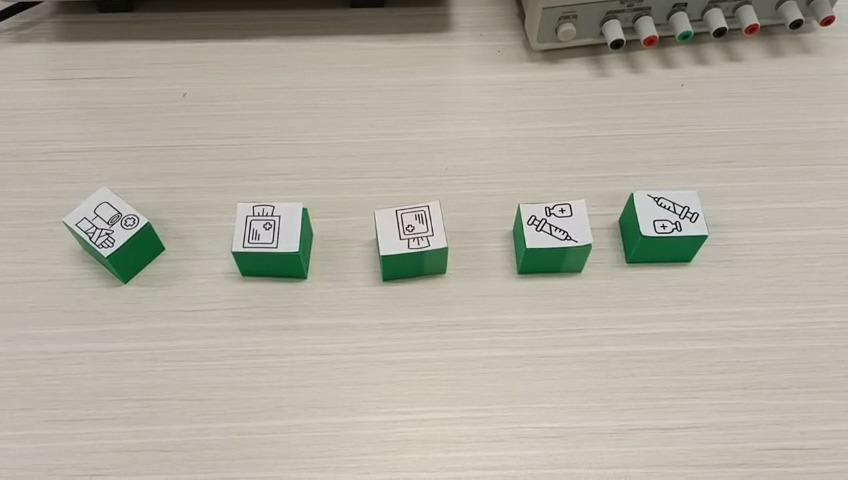Bandages: (59, 185, 165, 284)
Gauze: (232, 201, 315, 279), (373, 199, 449, 281)
antiseptic cream: (618, 187, 709, 263), (511, 199, 593, 274)
